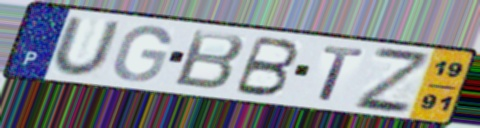B: (171, 28, 248, 92), (230, 34, 302, 99)
G: (110, 24, 173, 84)
T: (315, 44, 368, 104)
U: (50, 16, 124, 79)
Z: (351, 44, 431, 116)
